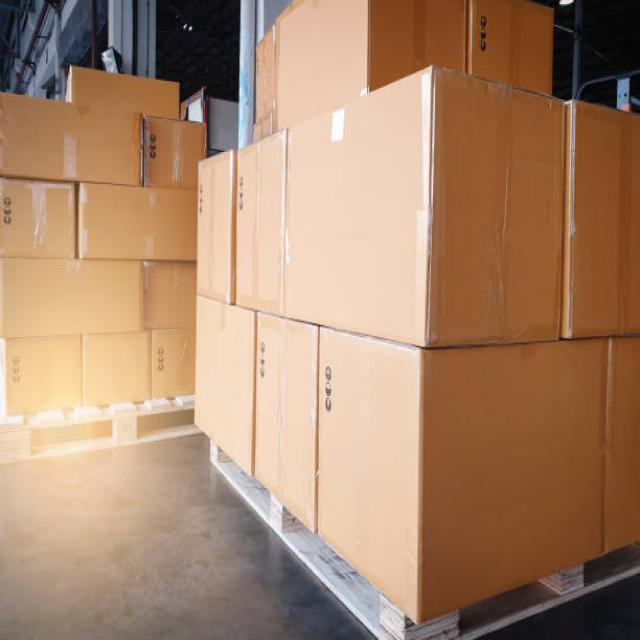Wooden-Pallets: (199, 424, 640, 640), (1, 387, 199, 465)
